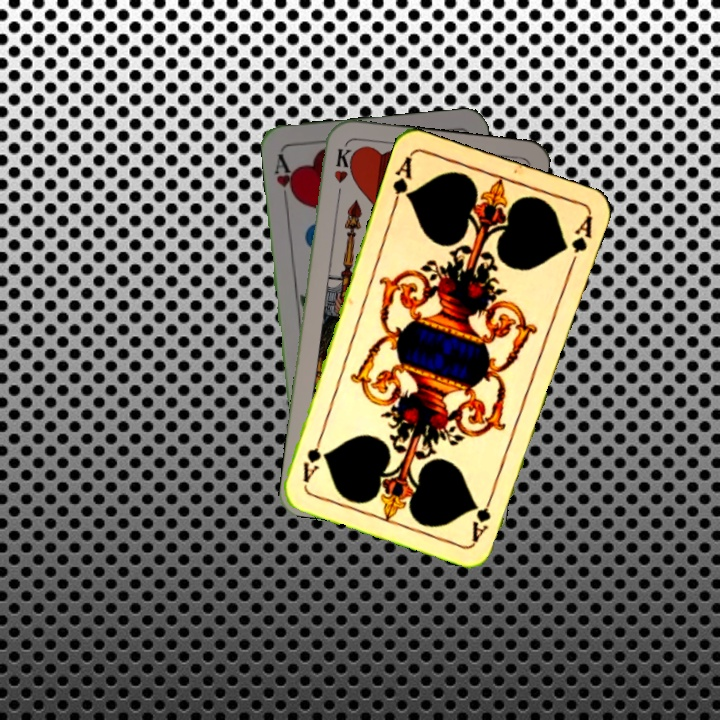GA: (468, 487, 497, 544), (388, 152, 415, 211)
HA: (270, 149, 299, 208)
HK: (330, 145, 354, 202)
